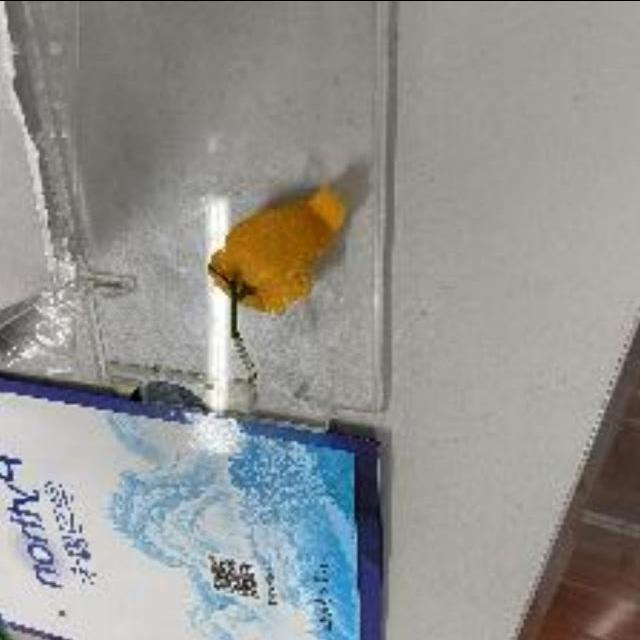orange peel: (202, 177, 358, 314)
